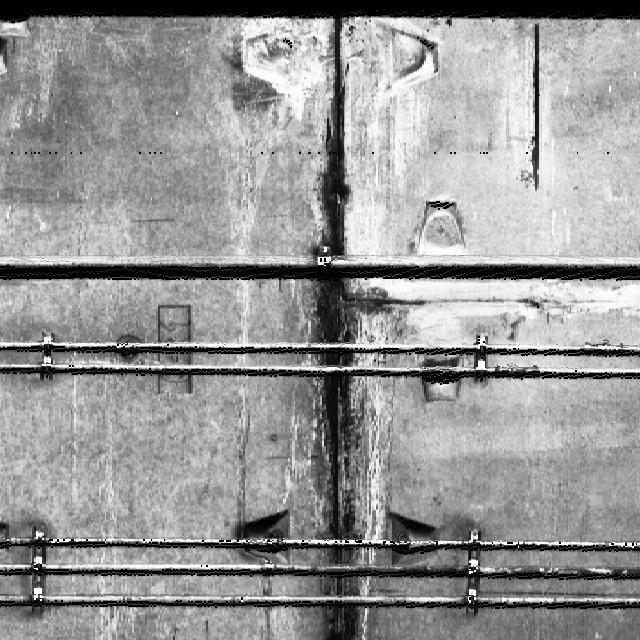leakage: (293, 19, 386, 639)
